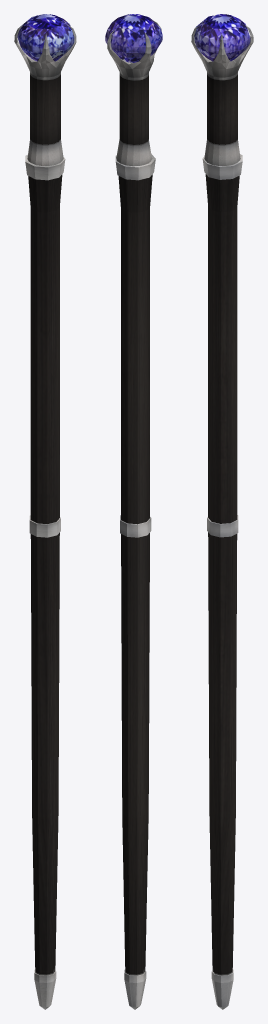
The model's file is karambit.glb.
3 views of the same model, side by side, from view 1: azimuth 90°, elevation 25°; view 2: azimuth 210°, elevation 25°; view 3: azimuth 270°, elevation 25° (orthographic).
Visible parts, largest first — view 1: 3DSMeshMatrix; view 2: 3DSMeshMatrix; view 3: 3DSMeshMatrix.
Part boxes in pixels (left/top/right/bottom): 3DSMeshMatrix: left=14, top=14, right=76, bottom=1009; 3DSMeshMatrix: left=105, top=14, right=162, bottom=1009; 3DSMeshMatrix: left=191, top=14, right=253, bottom=1009.
Size of what is drawn, in the model's own units: 3.77 by 65.7 by 3.72.
3 materials, 3 textured.
